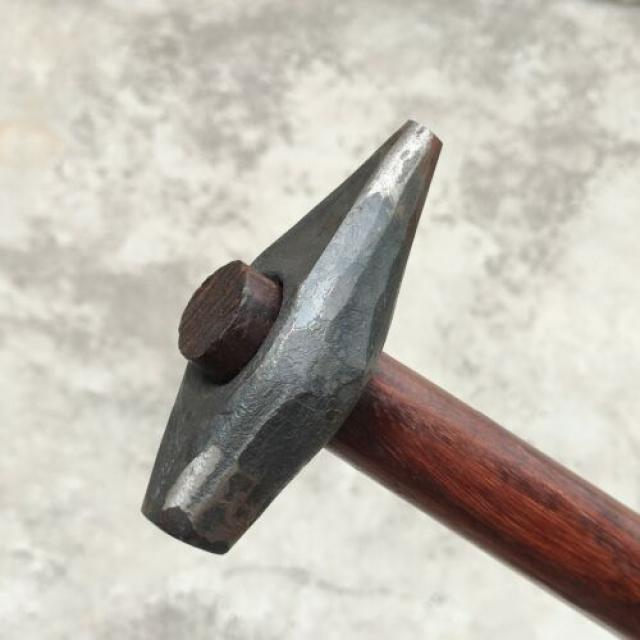hammer: (141, 115, 640, 640)
